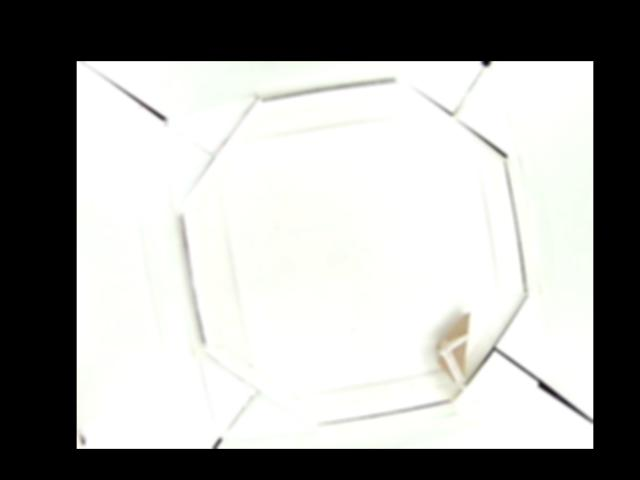China: (435, 311, 470, 387)
